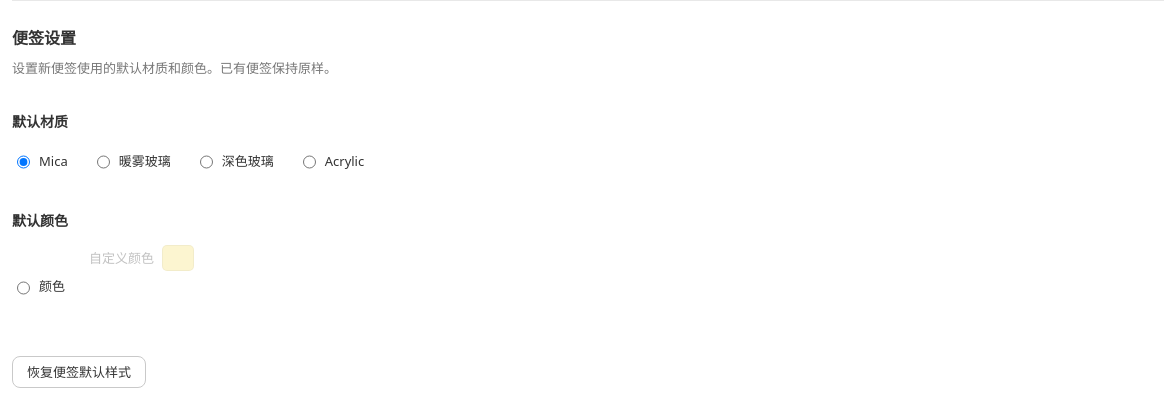
Scenario: StickyNotePreferencesSection › edits only future defaults and preserves legacy arrays on arkdown-embedded
Expected: the radio button labelled "Mica" is checked, [17,146,30,178]
Expected: the colour field labelled "自定义颜色" is disabled, [162,245,194,271]
Click the radio button labelled "颜色": {"x": 24, "y": 288} [17,272,30,304]
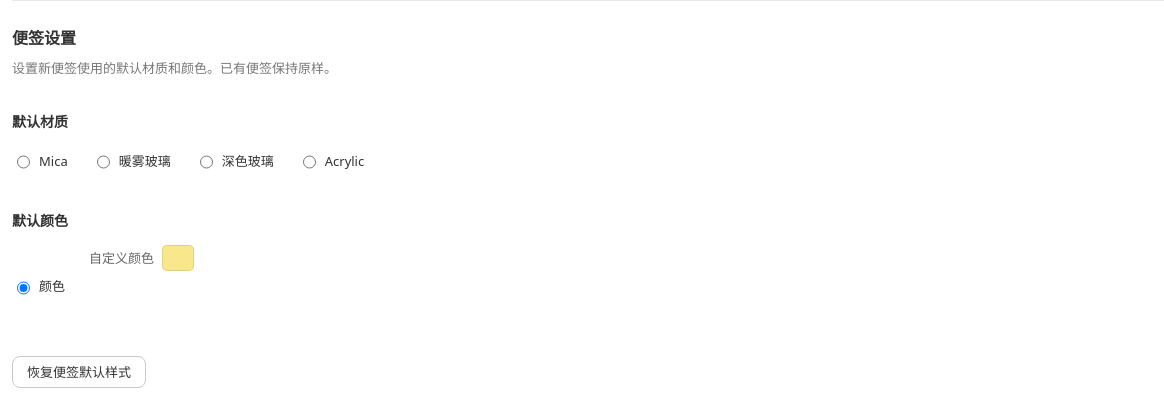
Expected: the colour field labelled "自定义颜色" is enabled
In the colour field labelled "自定义颜色": {"x": 178, "y": 258} [162,245,194,271], type "#123456"
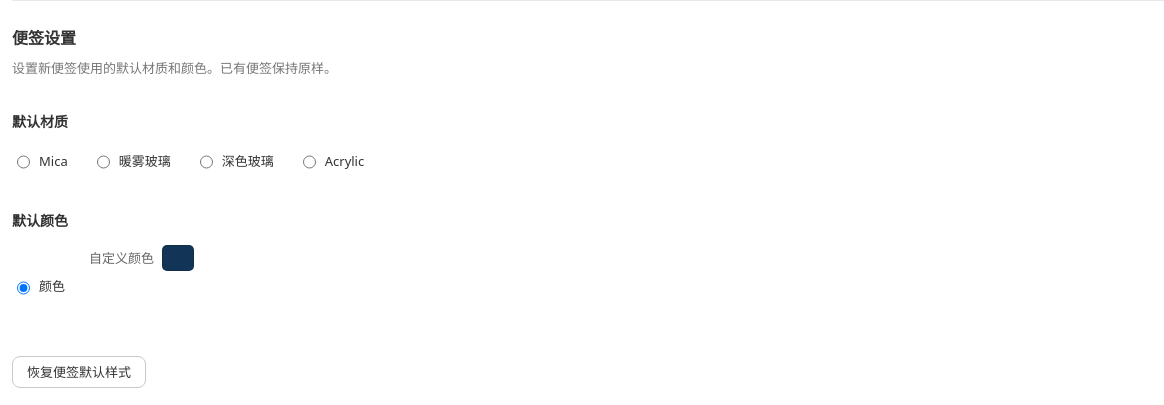
Click the radio button labelled "Acrylic": {"x": 309, "y": 162} [303,146,316,178]
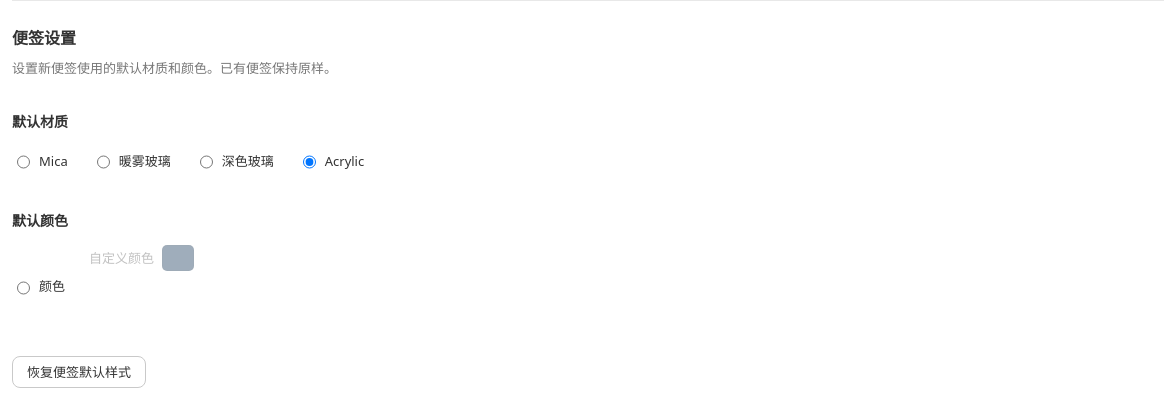
Expected: the colour field labelled "自定义颜色" is disabled, [162,245,194,271]
Click the radio button labelled "颜色": {"x": 24, "y": 288} [17,272,30,304]
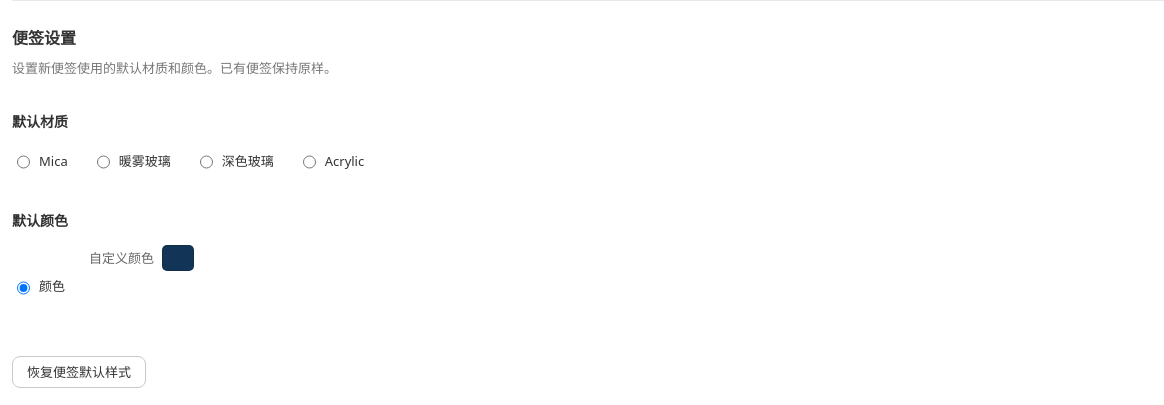
Click the button "恢复便签默认样式": {"x": 79, "y": 372} [12,356,146,388]
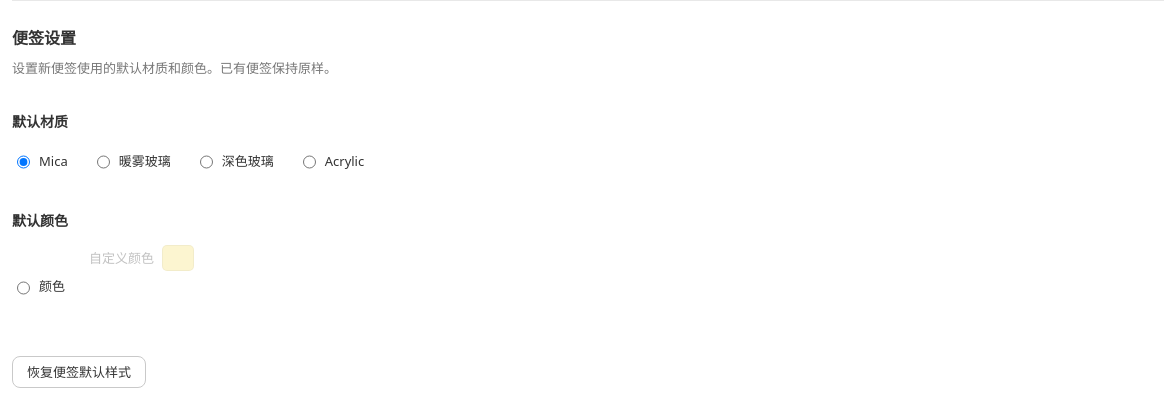
Expected: the colour field labelled "自定义颜色" is disabled, [162,245,194,271]
